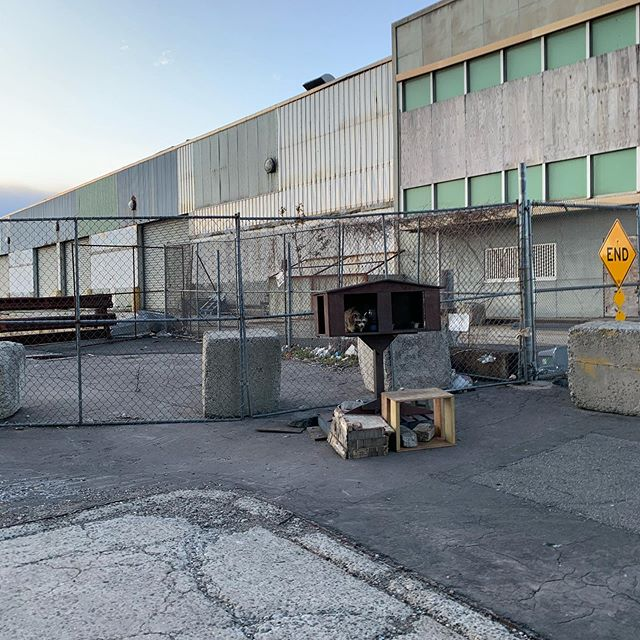animal: (345, 300, 379, 333)
building: (7, 53, 393, 308), (405, 1, 640, 339)
sign: (594, 211, 639, 278)
trash: (304, 357, 448, 472)
